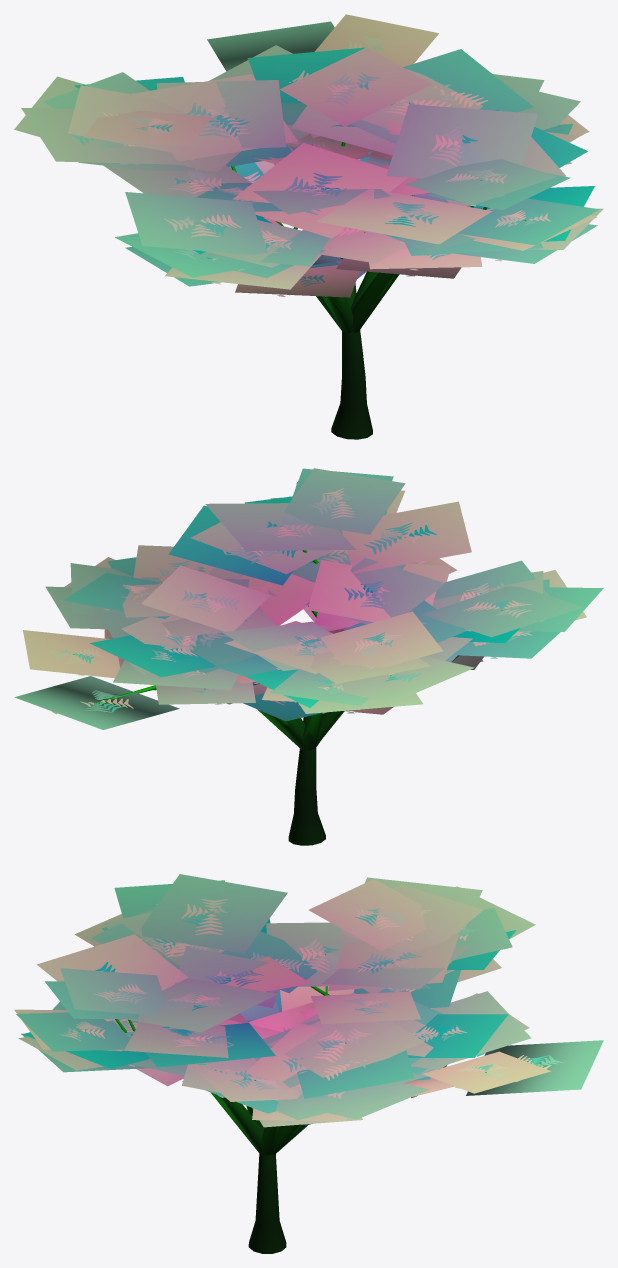
File: flame_1.glb
The picture shows the model from 3 angles, top to bottom: view 1: azimuth 30°, elevation 25°; view 2: azimuth 150°, elevation 25°; view 3: azimuth 270°, elevation 25°; orthographic projection. The views are drawn at different scales.
Parts seen in each view (by area): view 1: mid, near; view 2: mid, near; view 3: mid, near.
Boxes of the visible parts, x1=… form: mid: x1=14, y1=14, x2=603, y2=331; near: x1=69, y1=37, x2=550, y2=439; mid: x1=14, y1=468, x2=603, y2=749; near: x1=48, y1=488, x2=543, y2=845; mid: x1=14, y1=874, x2=603, y2=1154; near: x1=60, y1=899, x2=564, y2=1253.
Size of the model in its own units: 11.46 by 6.68 by 12.75.
